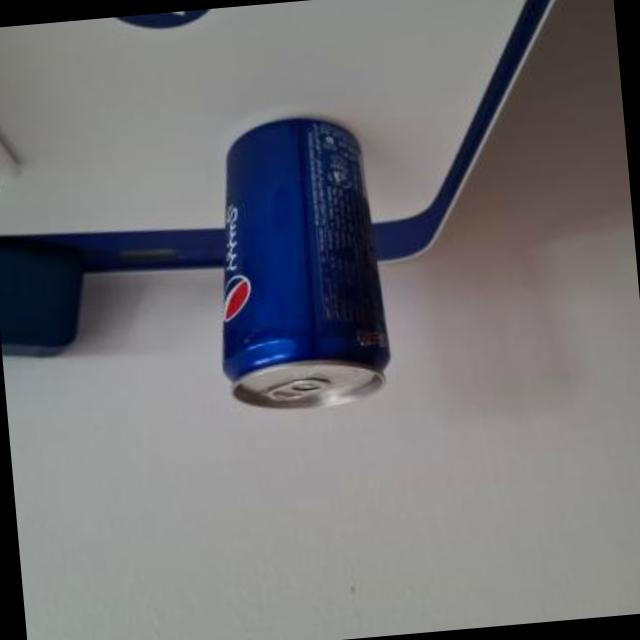metal: (226, 122, 392, 410)
